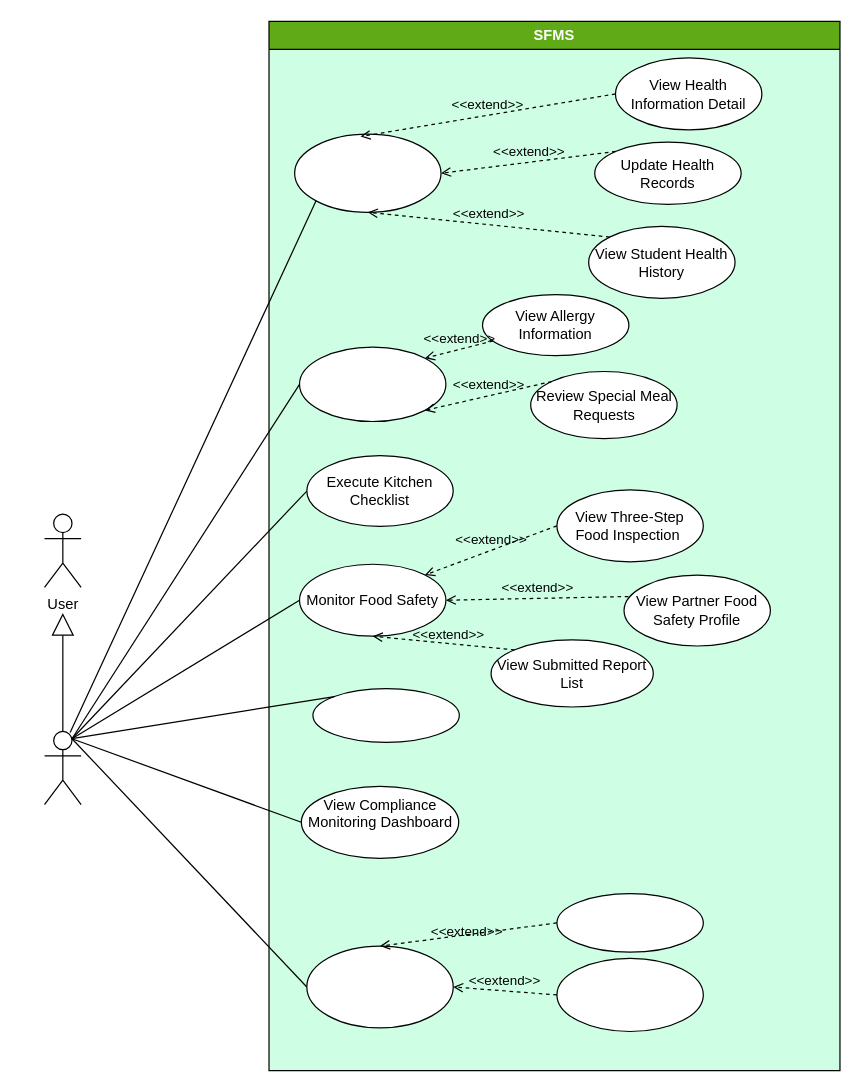
Image size: 861x1092. Some labels were removed from this diagram. Here are the shapes that lost their labels. From the top down, the centre of each, then its label:
[367,172]: View Student Health Record List
[372,384]: View Allergy & Special Meal List
[385,714]: Manage Violations
[62,767]: Medical Staff
[629,922]: View Incident Report List
[379,986]: Manage Food Safety Incidents
[629,994]: View Incident List
